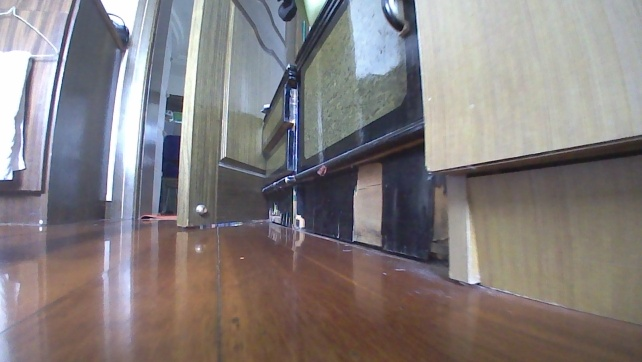cabinet: (259, 0, 454, 268)
door_anno: (170, 0, 313, 232)
